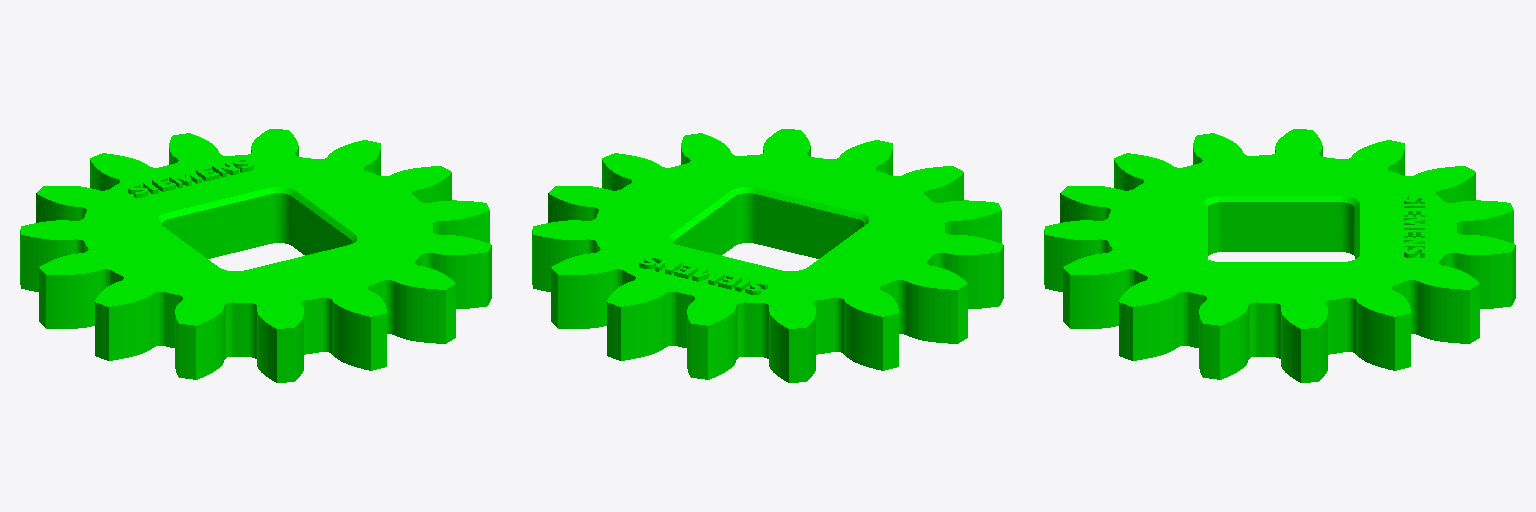
URDF robot description (gear1):
<?xml version="1.0"?>
<robot name="gear1">
    <link name="gear1">
        <visual>
            <origin xyz="0 0 0 " rpy=" 0 0 0"/>
            <geometry>
                <mesh filename="gearbox_meshes/gear1_precise.stl"/>
            </geometry>
            <material name="green">
                <color rgba="0.0 1.0 0.0 1.0"/>
            </material>
        </visual>
        <collision>
            <origin xyz="0 0 0" rpy="0 0 0"/>
            <geometry>
                <mesh filename="gearbox_meshes/gear1_precise.stl"/>
            </geometry>
            <sdf resolution="256"/>
        </collision>
    </link>
</robot>

--- Facts derived from the render (not from the file) ---
3 views of the same robot in one strip: view 1: azimuth 30°, elevation 25°; view 2: azimuth 150°, elevation 25°; view 3: azimuth 270°, elevation 25° (orthographic).
Robot: gear1 — 1 links, 0 joints (none); root link gear1; default pose: all joints at 0.
Visible links, largest first — view 1: gear1; view 2: gear1; view 3: gear1.
Boxes of the visible links, <box> form: gear1: <box>20,129,491,382</box>; gear1: <box>532,129,1003,382</box>; gear1: <box>1044,129,1515,382</box>.
Size in the robot's own frame: 0.1187 by 0.1183 by 0.0162 metres.
Meshes: 1 distinct files referenced, 1 mesh visuals loaded (1 binary STL).
